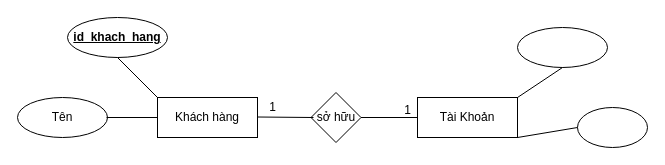
The diagram is 665 pixels wide and 165 high, and some of its shapes have lost their labels. The shapes that lost their labels are listed below. From the top down, each one's box as (x1, y1, x2, y2) in pixels, then its label:
(516, 26, 608, 68): id_tai_khoan
(576, 106, 648, 148): số dư
